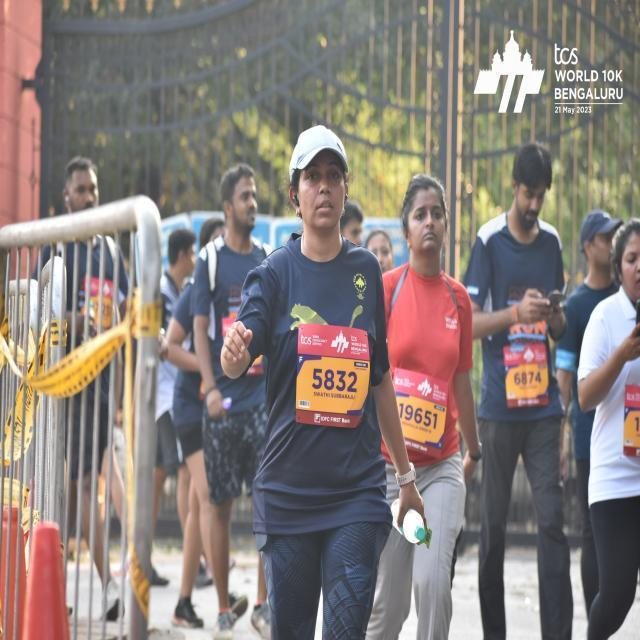dorsal: (297, 322, 370, 431), (390, 368, 450, 461), (502, 342, 553, 408)
